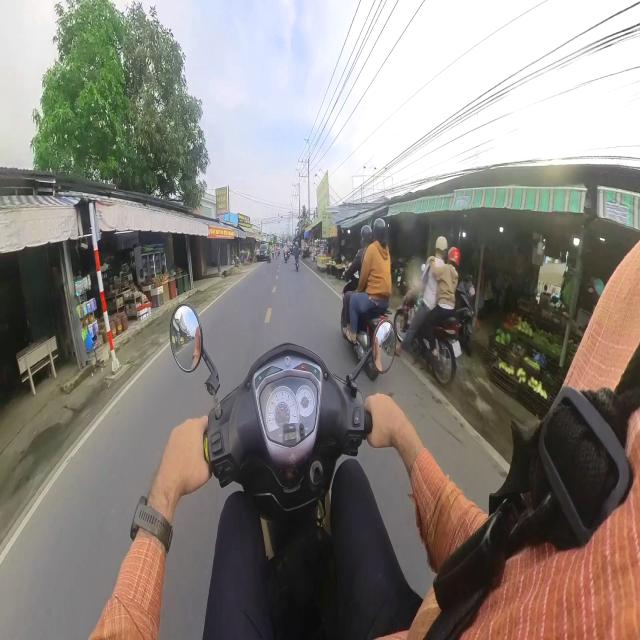car: (256, 243, 270, 262)
motorcycle: (170, 305, 395, 637), (412, 317, 461, 386), (349, 310, 388, 361), (284, 251, 288, 263)
